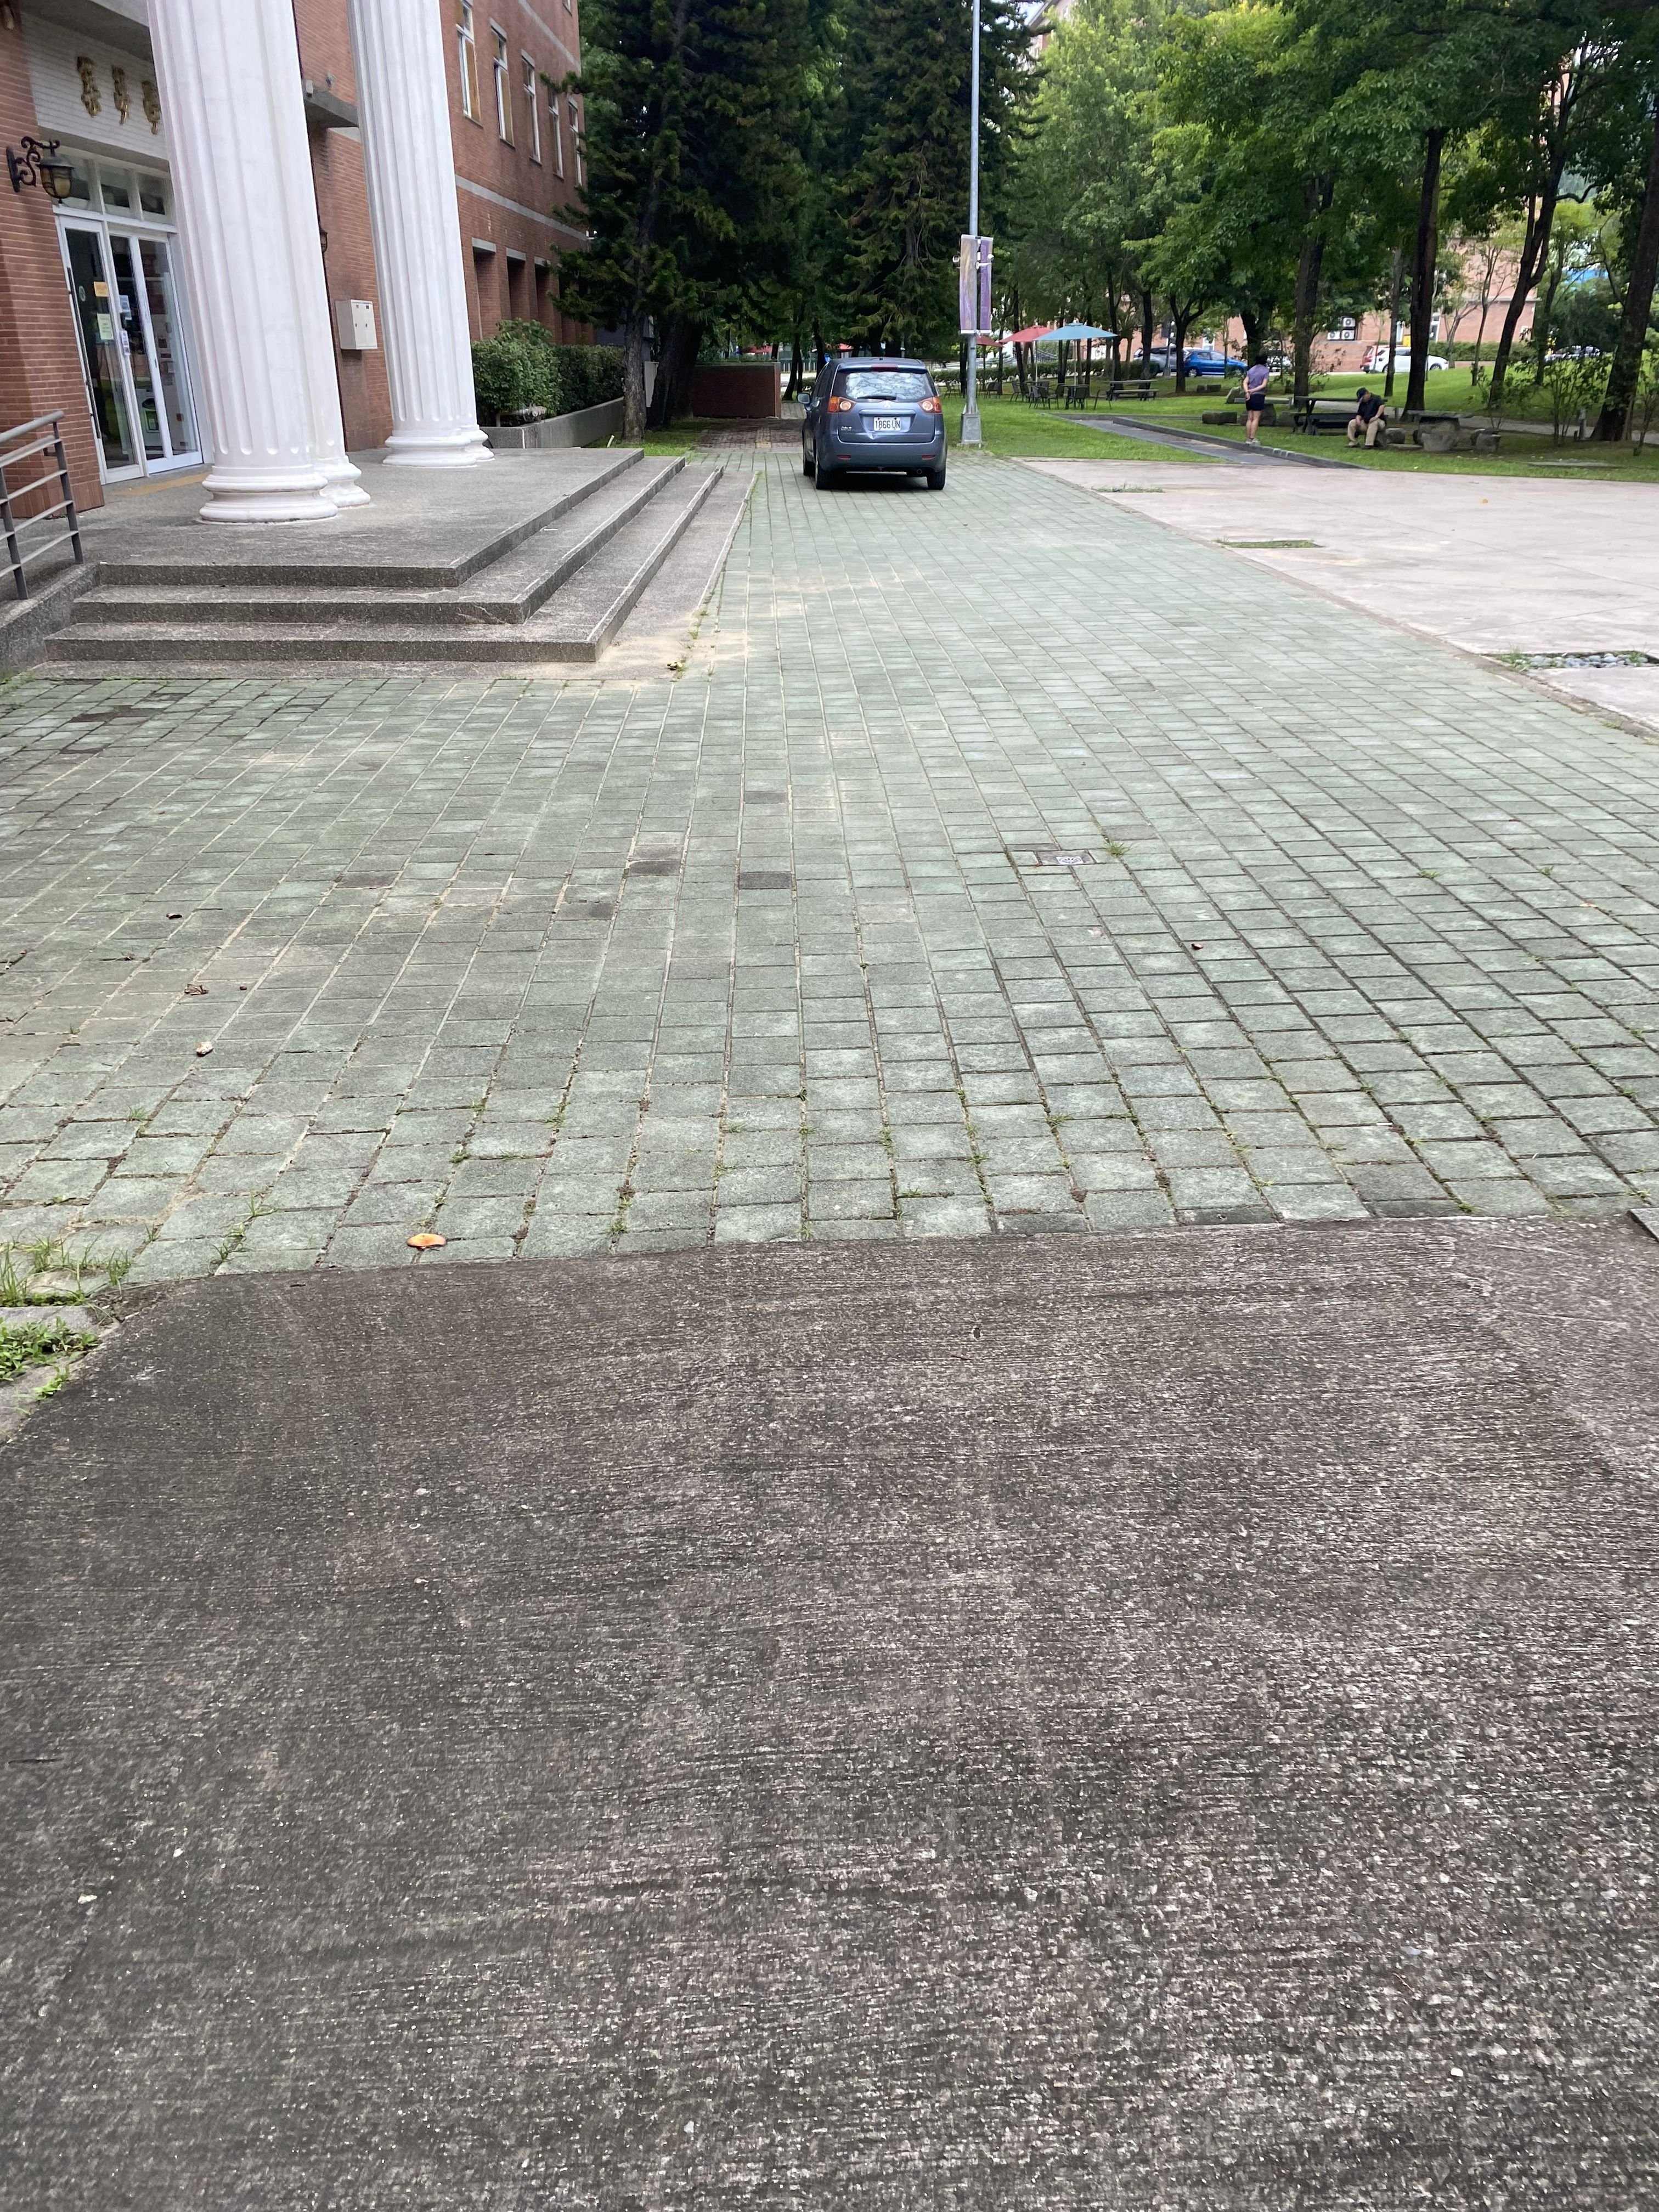sidewalk: (0, 421, 1659, 2212)
